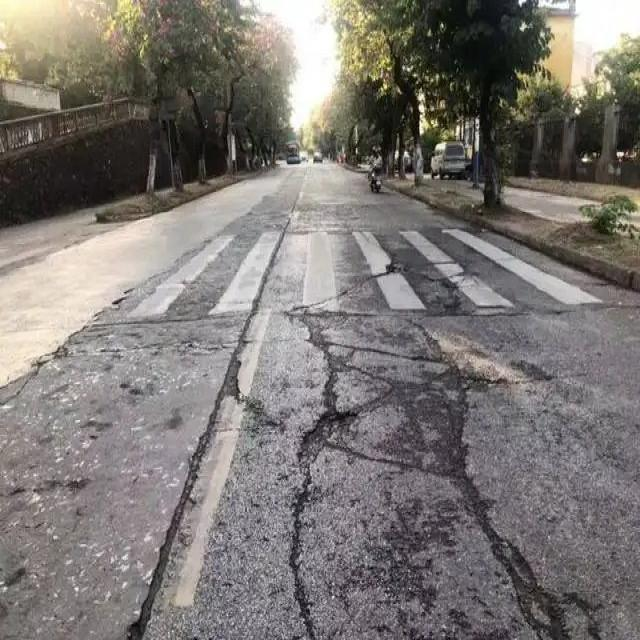Pothole: (129, 300, 261, 637), (282, 305, 482, 483), (375, 254, 466, 294)
